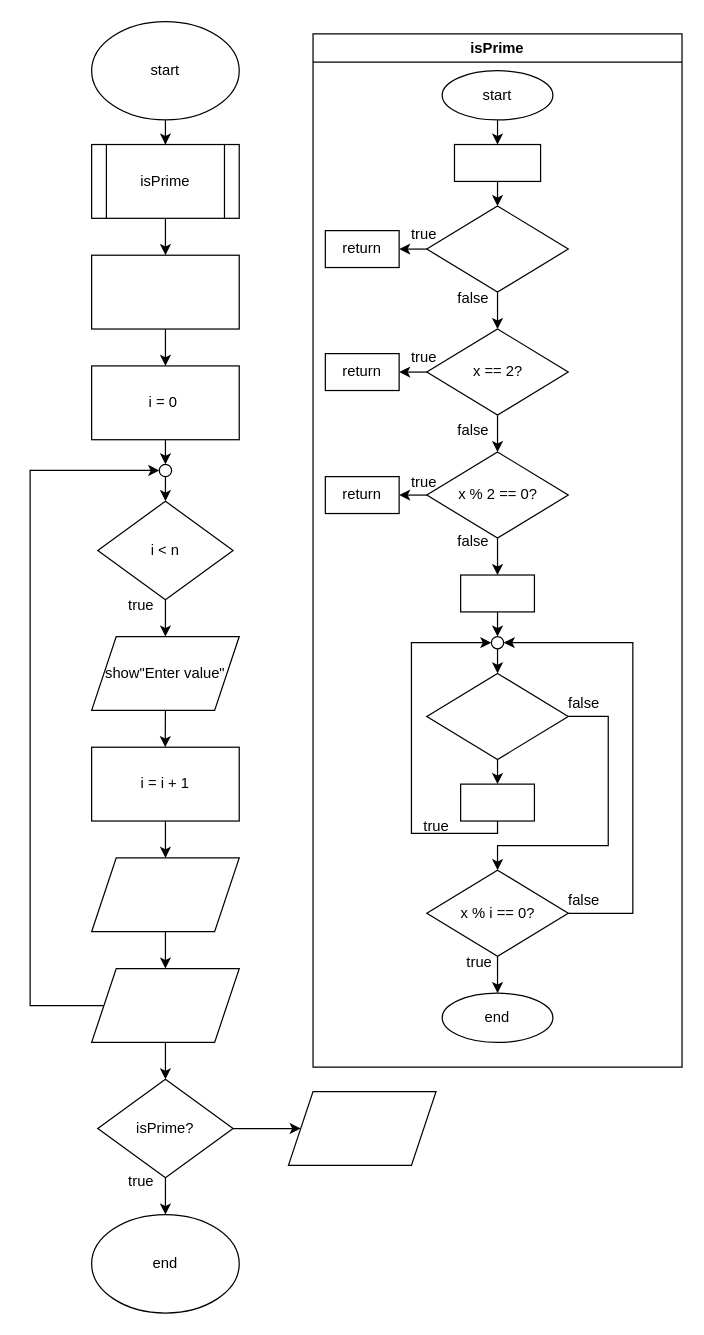
Some shapes in this 704 by 1335 pixel diagram are drawn without their labels. Here are the shapes that lost their labels. From the top down, the centre of each, then its label:
(497,162): รับค่า x
(497,248): x ≤ 1?
(164,291): รับค่า n
(496,593): i = 3
(497,716): i <= x?
(496,802): i += 2
(164,894): show"Index"
(164,1004): show"Array"
(361,1127): show"#"
